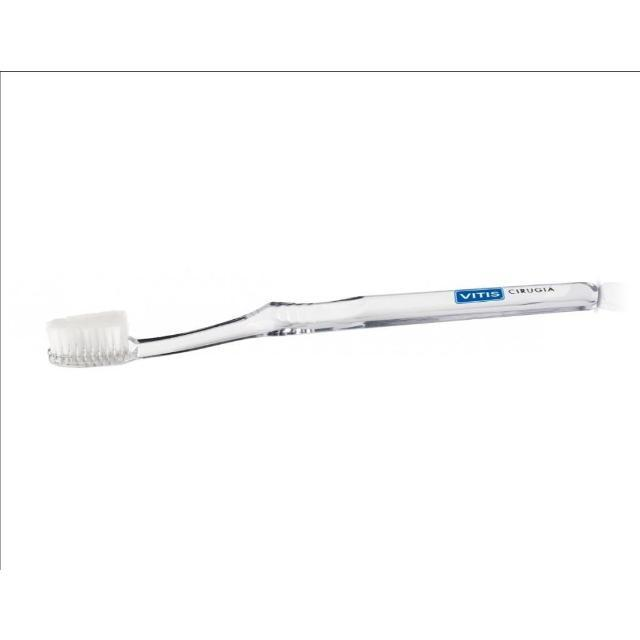toothbrush: (2, 266, 640, 372)
